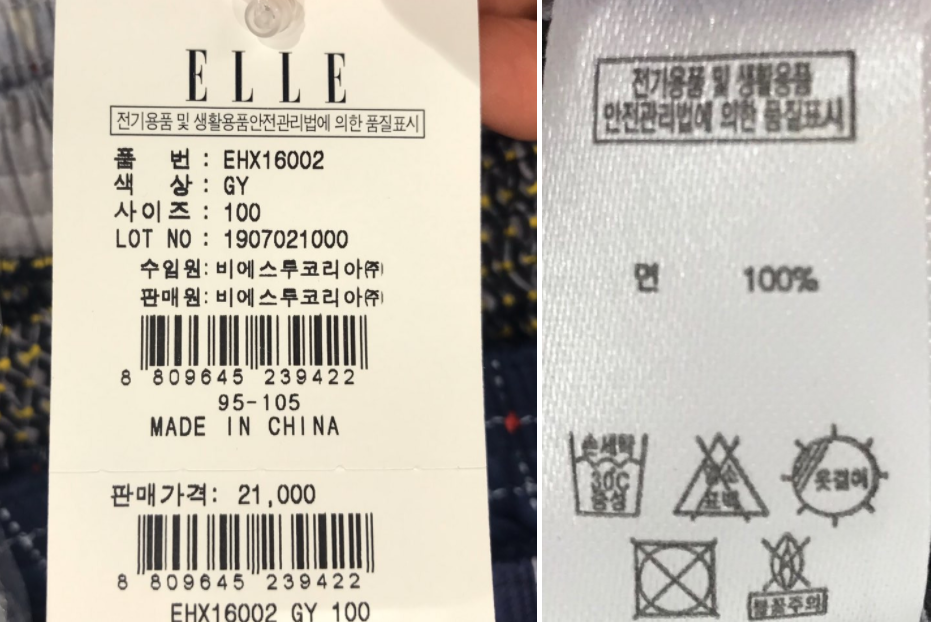KR_flat_dry_in_shade: (781, 422, 890, 528)
KR_hand_wash_30_neutral: (561, 422, 658, 534)
KR_no_chlorine_bleach: (667, 425, 776, 528)
KR_no_tumble_dry: (626, 534, 723, 618)
